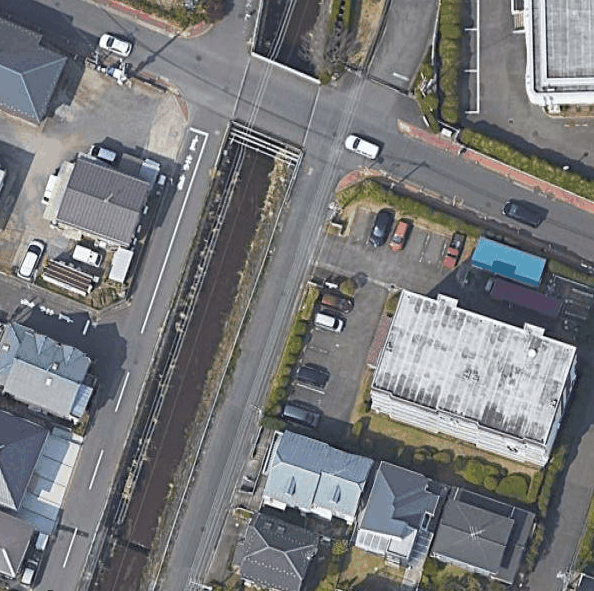flatroof: (363, 273, 590, 455)
